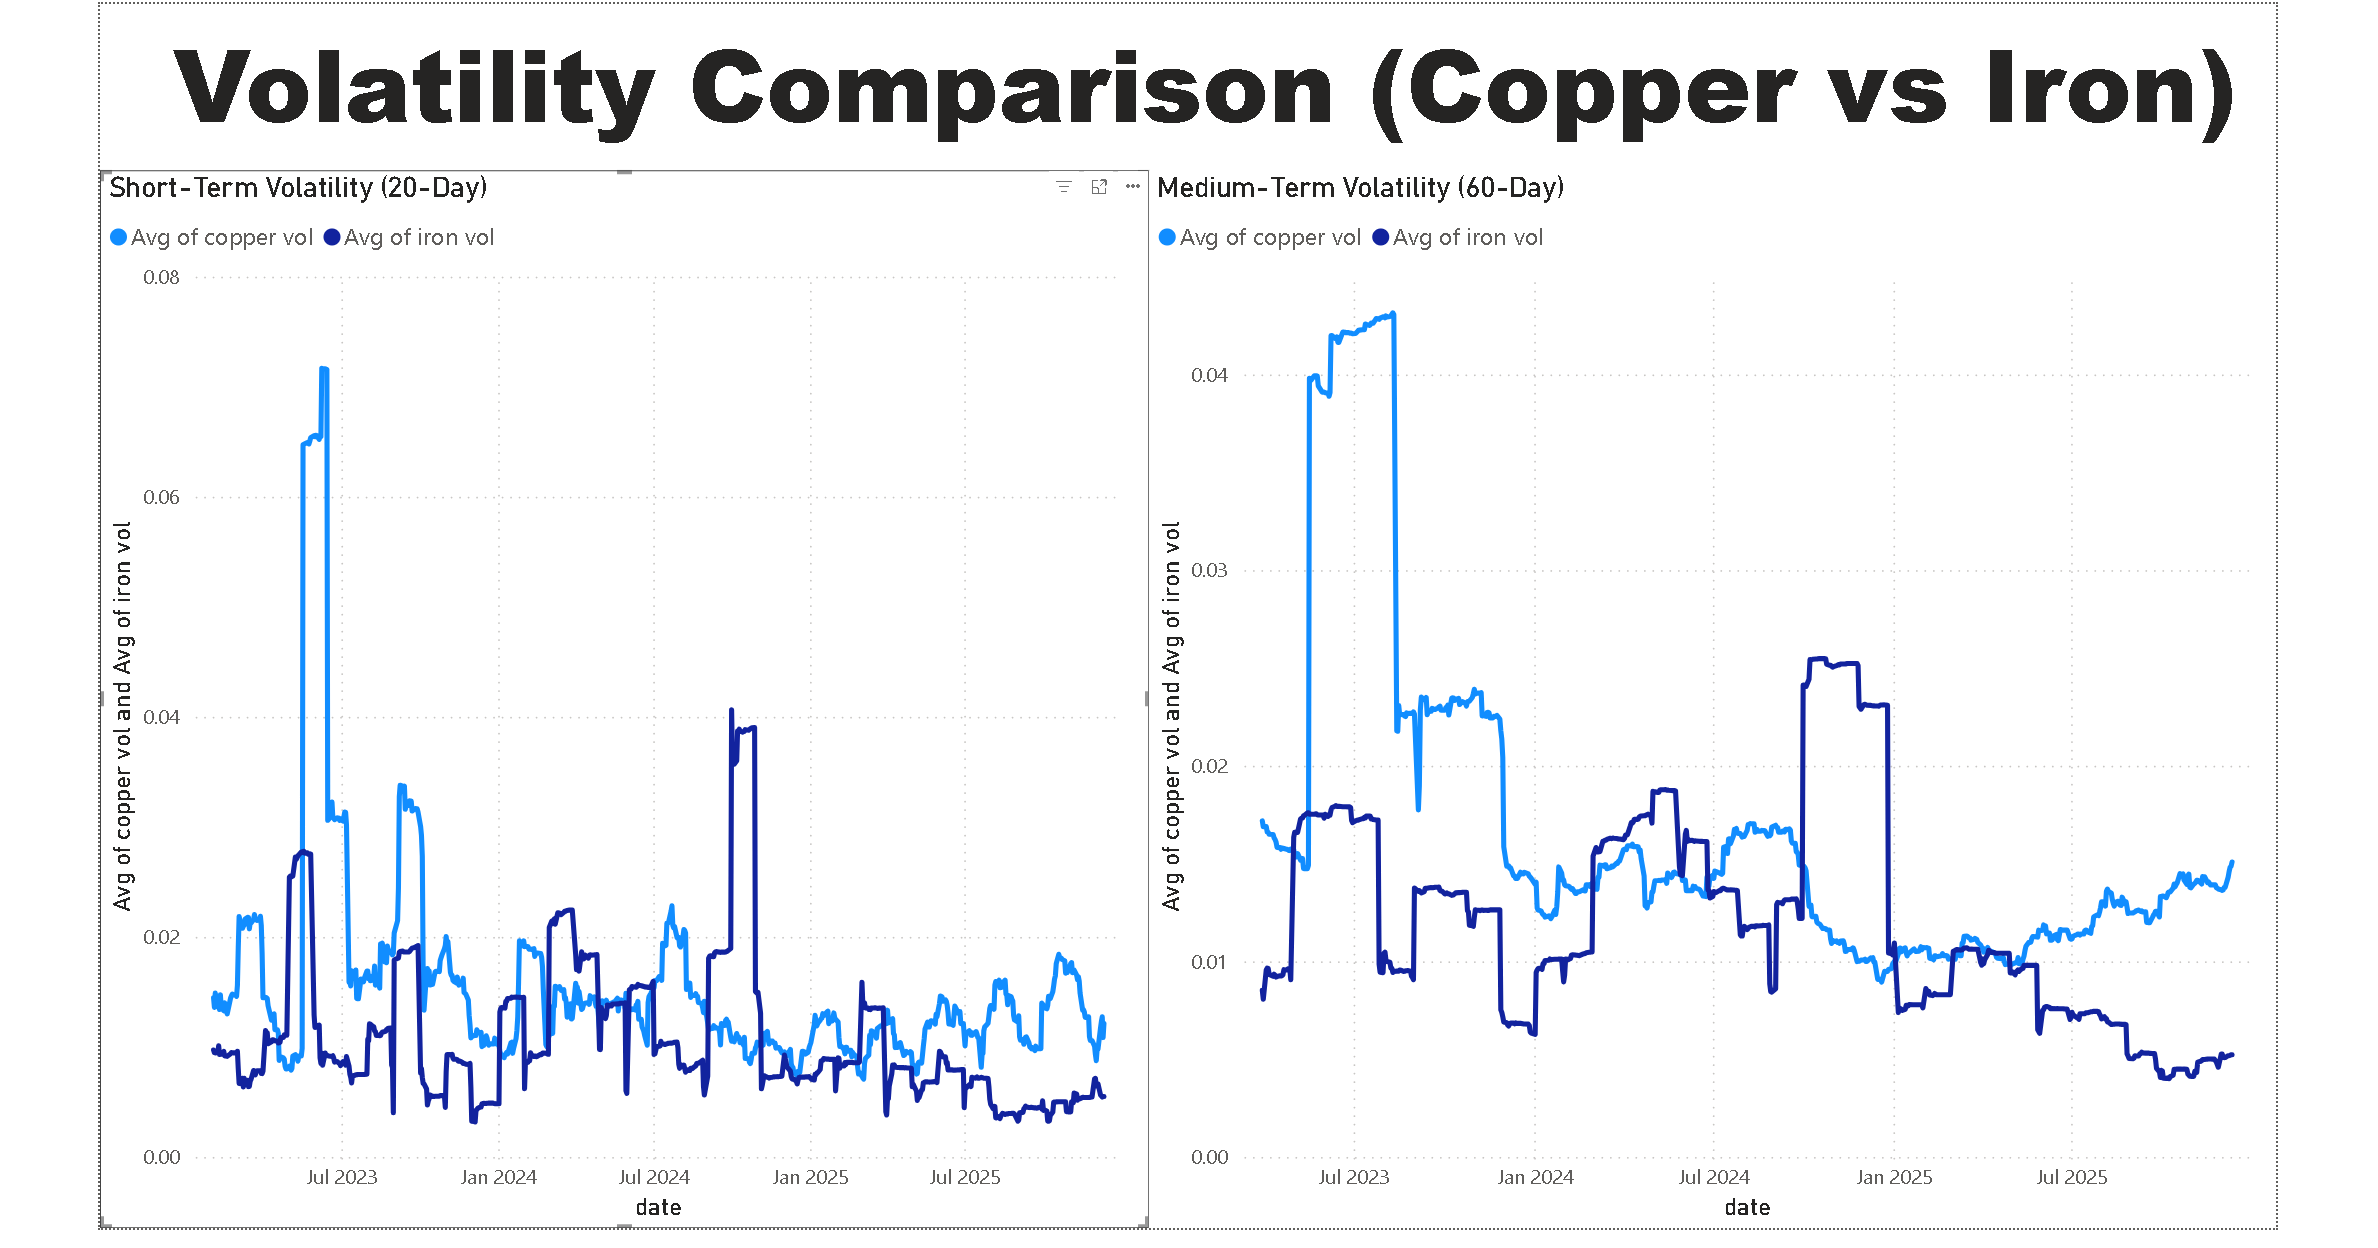

This screenshot's page, from the dashboard's own definition file:
{"tool":"powerbi","page":{"name":"Volatility Analysis","canvas":[1280,720],"ordinal":1},"visuals":[{"type":"lineChart","title":"Short-Term Volatility (20-Day)","fields":{"Y":["Avg(metal_fx_analysis.copper_vol_20d)","Avg(metal_fx_analysis.iron_vol_20d)"],"Category":["metal_fx_analysis.date"]},"box":[0,97.9,616.8,622.1],"z":0},{"type":"lineChart","title":"Medium-Term Volatility (60-Day)","fields":{"Y":["Avg(metal_fx_analysis.copper_vol_60d)","Avg(metal_fx_analysis.iron_vol_60d)"],"Category":["metal_fx_analysis.date"]},"box":[616.8,97.9,663.4,622.1],"z":1000},{"type":"textbox","box":[0,0,1280.2,97.9],"z":2000}]}

Visuals, with their boxes on the page's 1280x720 design canvas (x1, y1, x2, y2). These are canvas units, not pixel positions in the 2378x1248 screenshot, which may show the page scaled, cropped or inside an application window:
"Short-Term Volatility (20-Day)" lineChart: <box>0,98,617,720</box>
"Medium-Term Volatility (60-Day)" lineChart: <box>617,98,1280,720</box>
textbox: <box>0,0,1280,98</box>
